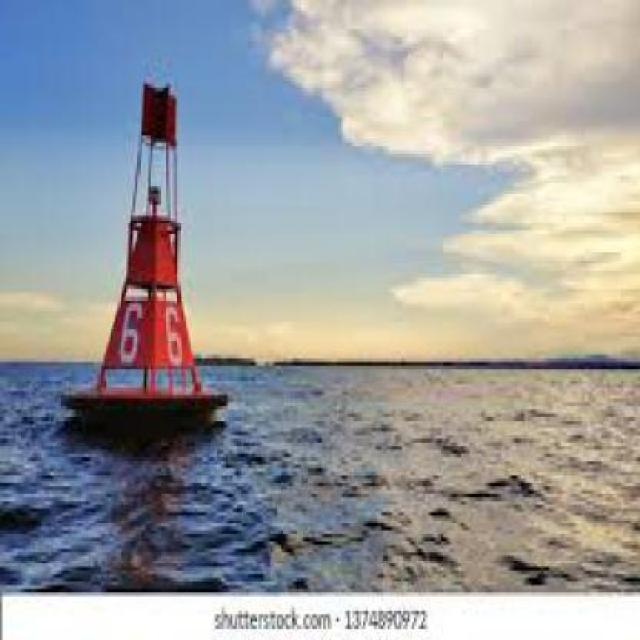buoy: (50, 64, 239, 444)
